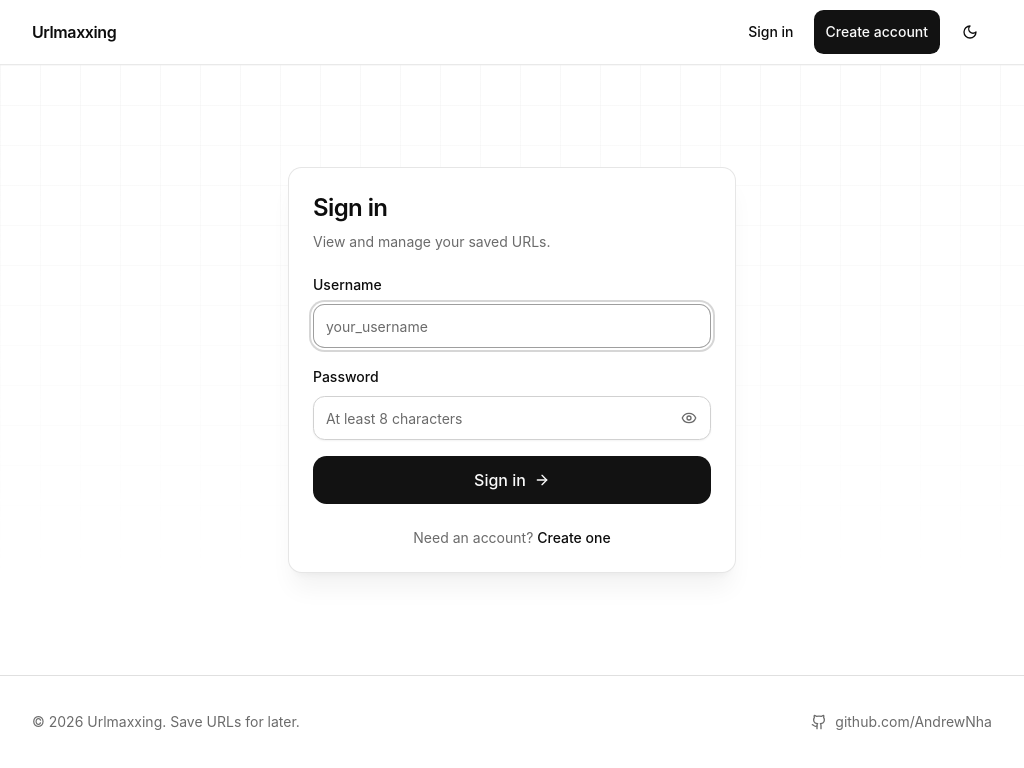
Test case: authentication form › validates fields and toggles password visibility
Click the button "Sign in" at (512, 480), box [313,456,711,504]
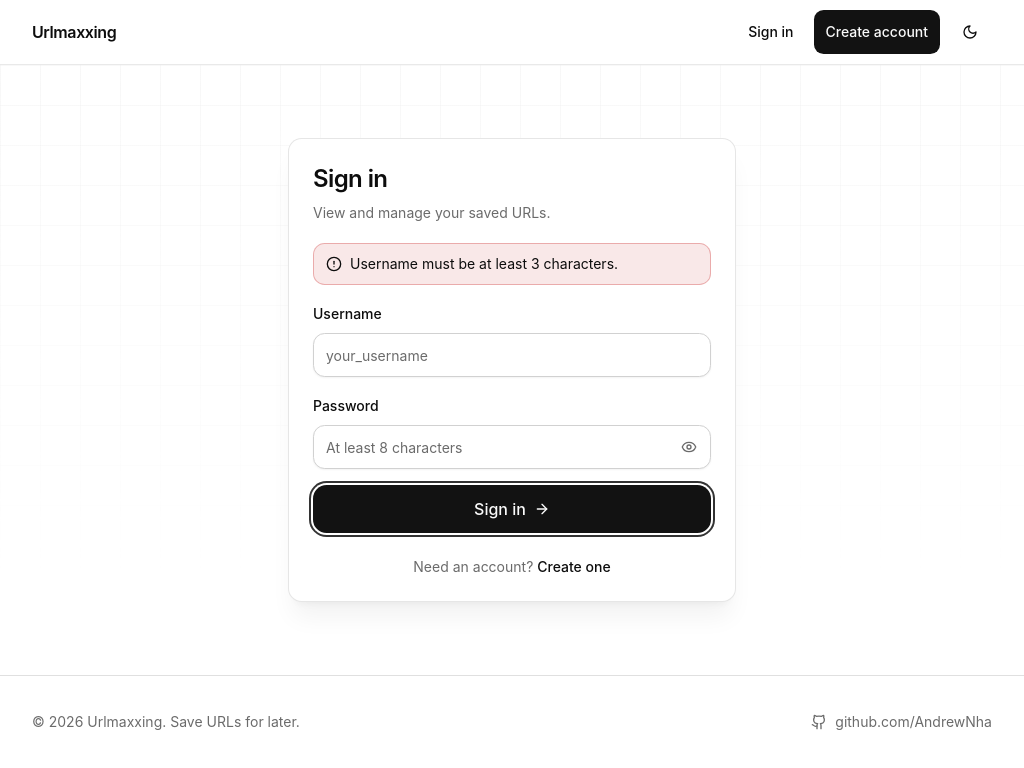
Now the message shows "Username must be at least 3 characters", box [350,255,618,272]
Click the button named "Show password" at (689, 447), box [667,425,711,469]
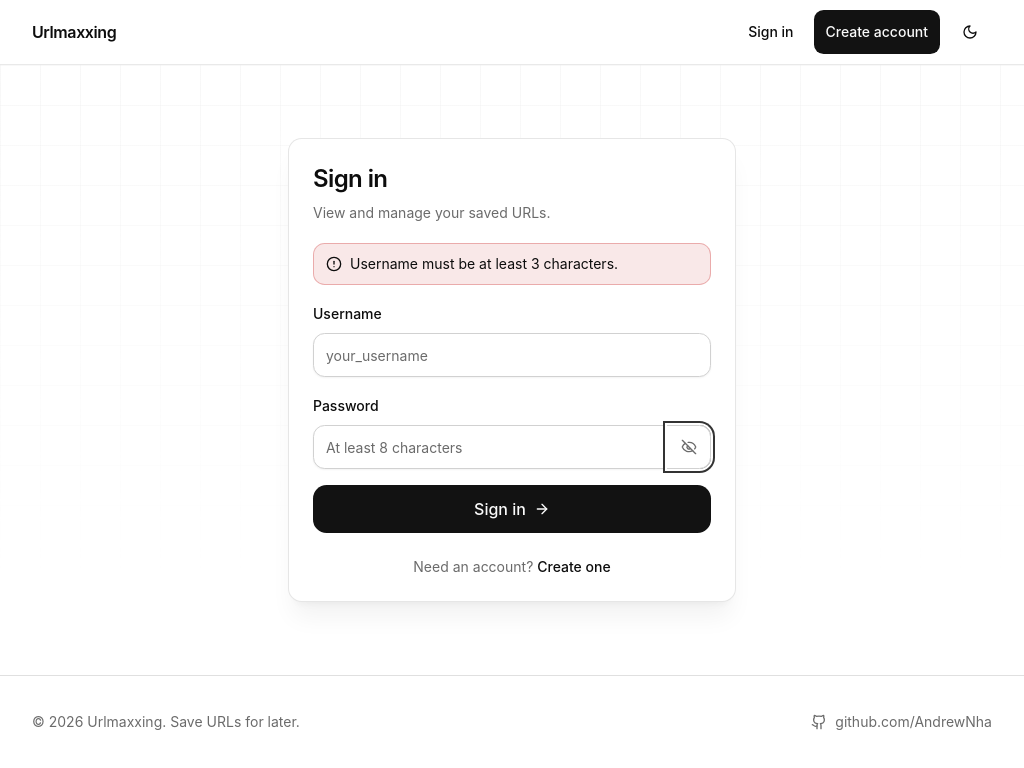
Now the field labelled "Password" shows its text, box [313,425,711,469]
